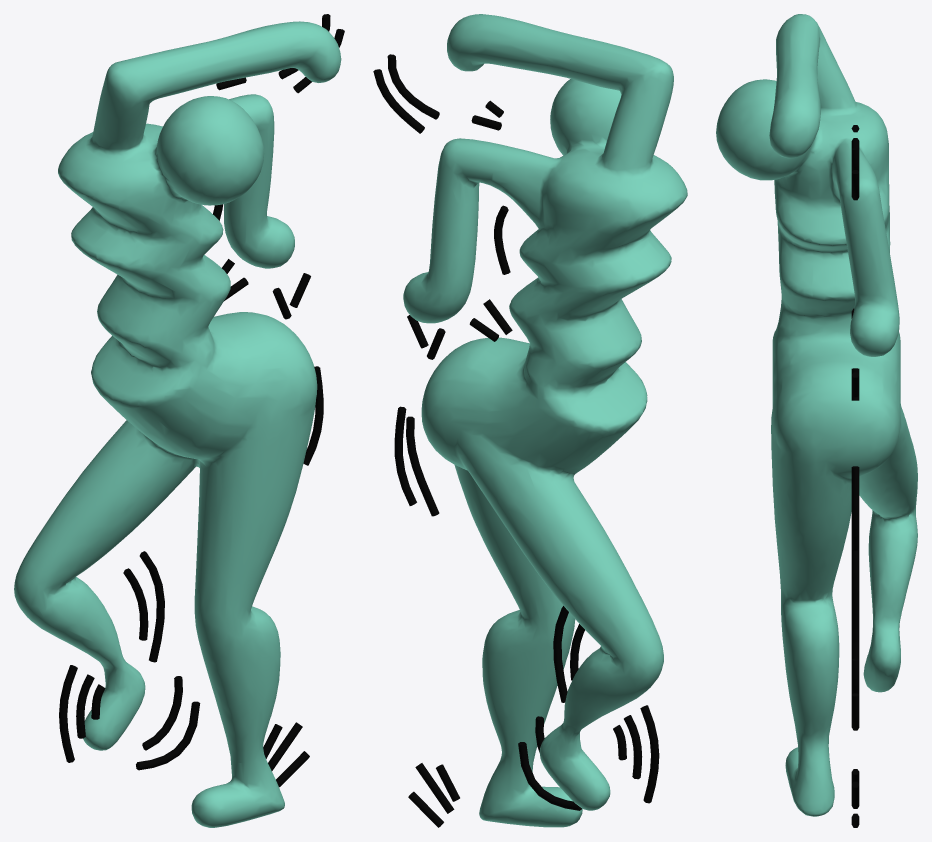
3 views of the same model, side by side, from view 1: azimuth 30°, elevation 25°; view 2: azimuth 150°, elevation 25°; view 3: azimuth 270°, elevation 25° (orthographic). The views are drawn at different scales.
Visible parts, largest first — view 1: Cube.031, BézierCurve.015; view 2: Cube.031, BézierCurve.015; view 3: Cube.031, BézierCurve.015.
Part boxes in pixels (box(x1,y1,x2,y2)): Cube.031: box(14, 21, 341, 827); BézierCurve.015: box(59, 14, 344, 787); Cube.031: box(403, 14, 687, 827); BézierCurve.015: box(373, 54, 659, 827); Cube.031: box(716, 14, 917, 816); BézierCurve.015: box(851, 125, 859, 827).
Size of the model in its own units: 0.6777 by 1.68 by 0.4197.
